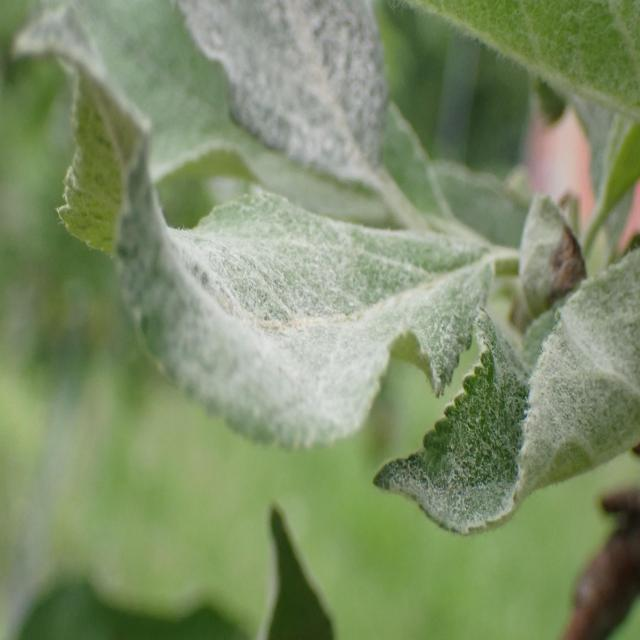Powdery_mildew: (7, 2, 525, 472), (375, 232, 640, 561), (173, 0, 395, 201), (408, 0, 640, 139)
